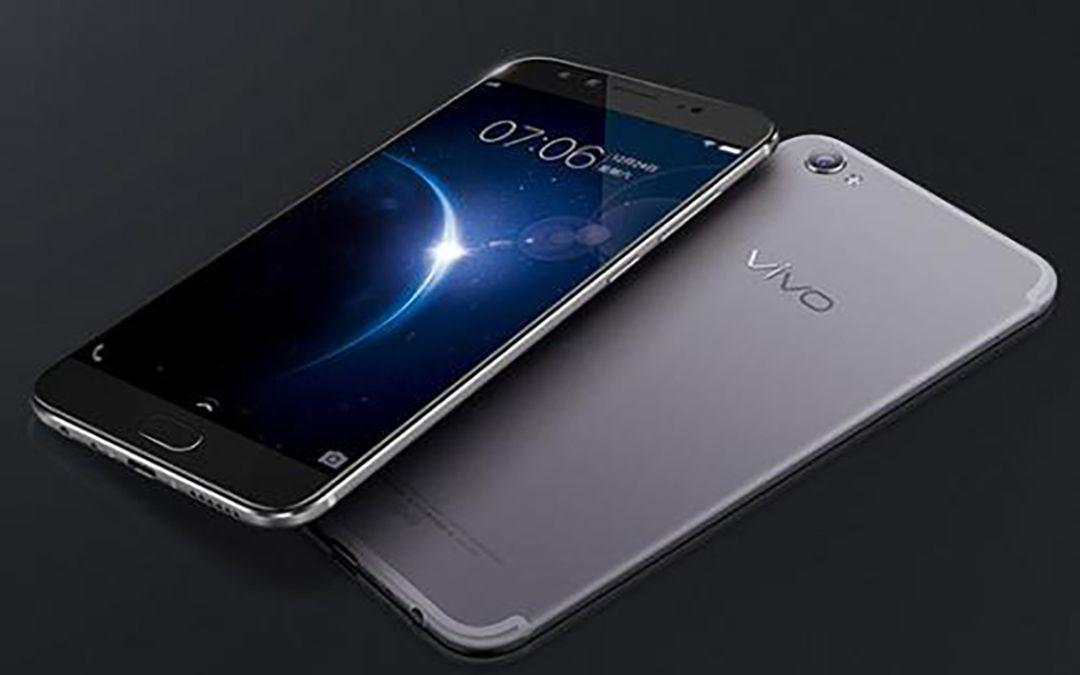phone: (26, 56, 782, 527), (601, 128, 1046, 604)
